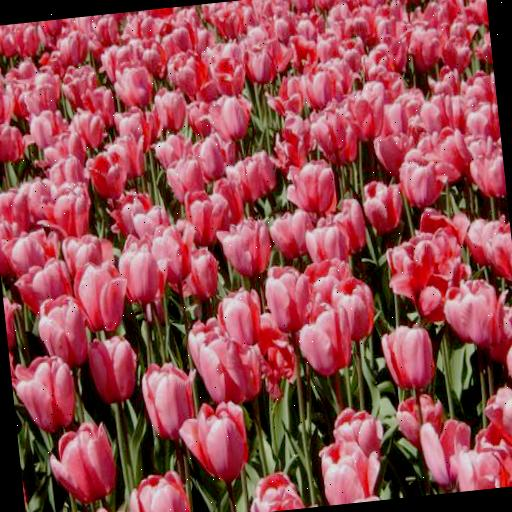tulip: (46, 418, 120, 502), (177, 397, 250, 482), (14, 354, 78, 432), (141, 358, 200, 437), (318, 436, 382, 506), (72, 258, 130, 332), (298, 300, 354, 376), (442, 278, 500, 348), (216, 210, 274, 277), (87, 332, 141, 400), (36, 292, 87, 362), (382, 324, 436, 390), (264, 262, 314, 330), (398, 148, 448, 208), (332, 275, 378, 340), (126, 466, 191, 512), (286, 158, 338, 214), (150, 221, 196, 283), (216, 286, 263, 346), (362, 178, 406, 232), (344, 82, 388, 136), (86, 146, 128, 202), (51, 180, 93, 236), (304, 224, 351, 265), (166, 153, 202, 201)
